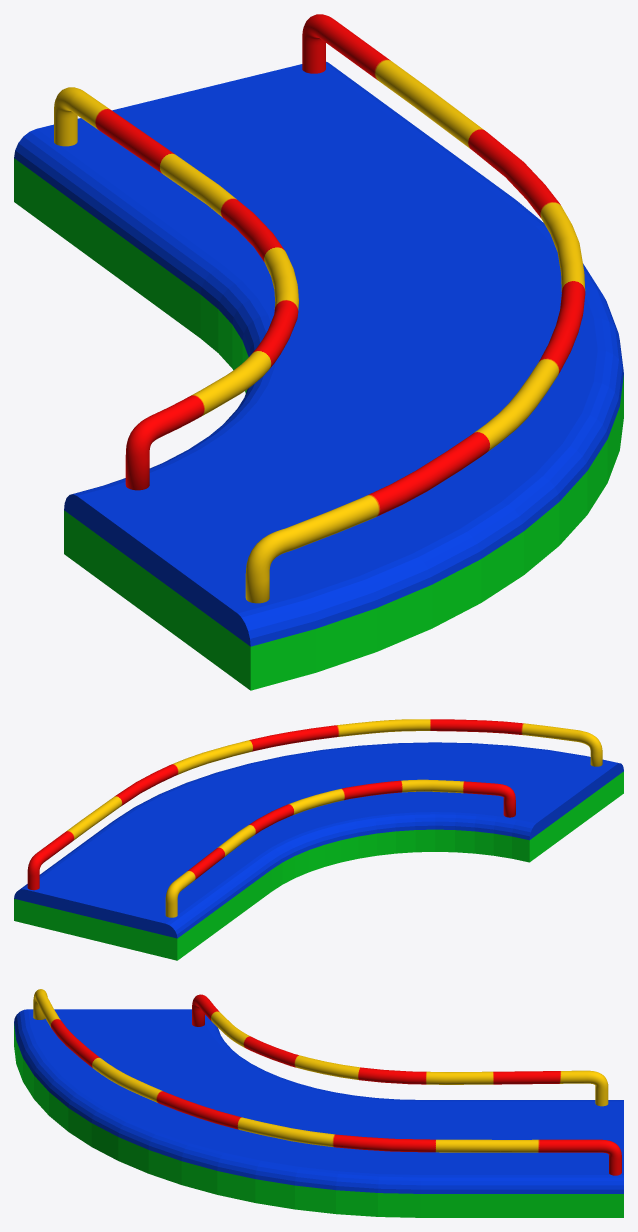
3 renders of one model, top to bottom at view 1: azimuth 30°, elevation 25°; view 2: azimuth 150°, elevation 25°; view 3: azimuth 270°, elevation 25°, orthographic. The views are drawn at different scales.
Parts seen in each view (by area): view 1: plank4, pipe10, pipe9; view 2: plank4, pipe10, pipe9; view 3: plank4, pipe10, pipe9.
Part boxes in pixels (x1,y1,x2,y2): plank4: [14, 61, 623, 690]; pipe10: [245, 14, 585, 603]; pipe9: [54, 87, 298, 490]; plank4: [14, 742, 623, 960]; pipe10: [27, 719, 602, 890]; pipe9: [165, 779, 515, 917]; plank4: [14, 1009, 623, 1217]; pipe10: [33, 989, 621, 1175]; pipe9: [192, 994, 608, 1106].
Size of the model in its own units: 1000 by 189 by 1500.
